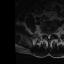CCS_normal: (48, 31, 50, 40)
LFS_severe_stenosis: (51, 31, 53, 36)
LLS_stenosis: (50, 32, 51, 37)
RFS_stenosis: (44, 31, 46, 36)
RLS_stenosis: (46, 32, 48, 37)
